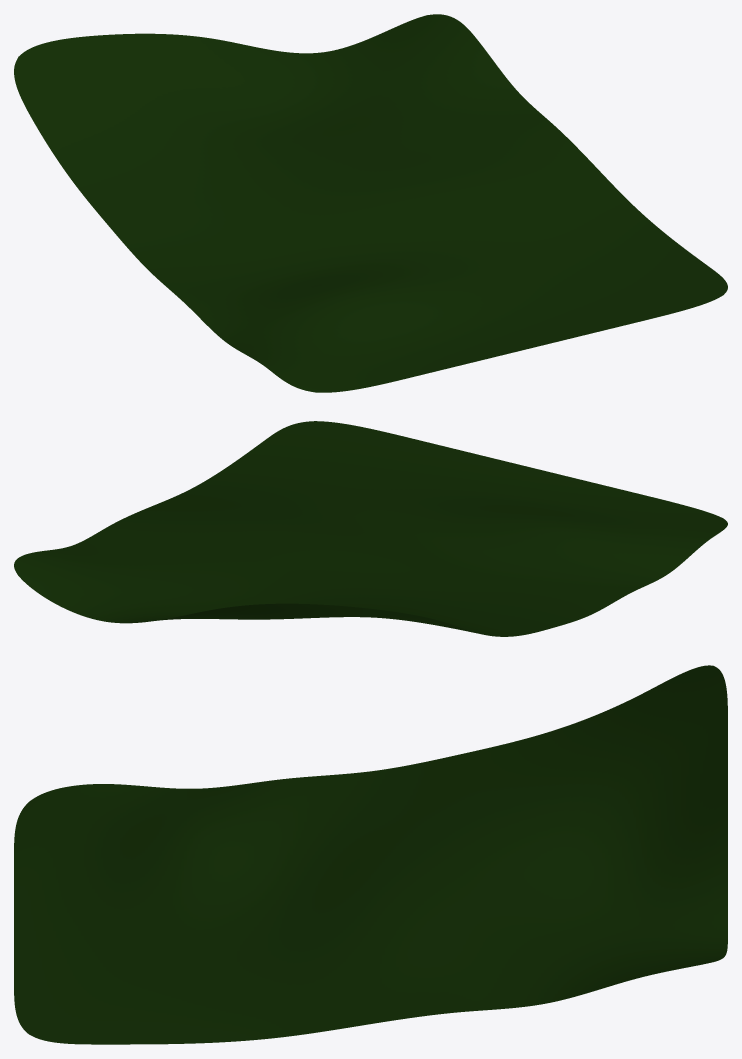
Rendered from ForestOfPenix.glb.
3 views of the same model, one above another, from view 1: azimuth 30°, elevation 25°; view 2: azimuth 150°, elevation 25°; view 3: azimuth 270°, elevation 25° (orthographic). The views are drawn at different scales.
Parts seen in each view (by area): view 1: Plane; view 2: Plane; view 3: Plane.
Part boxes in pixels (bbox=[...]): Plane: bbox=[14, 14, 727, 392]; Plane: bbox=[14, 421, 727, 636]; Plane: bbox=[14, 665, 727, 1044].
Bounding box in the file's own units: 1095 × 289 × 1320.
